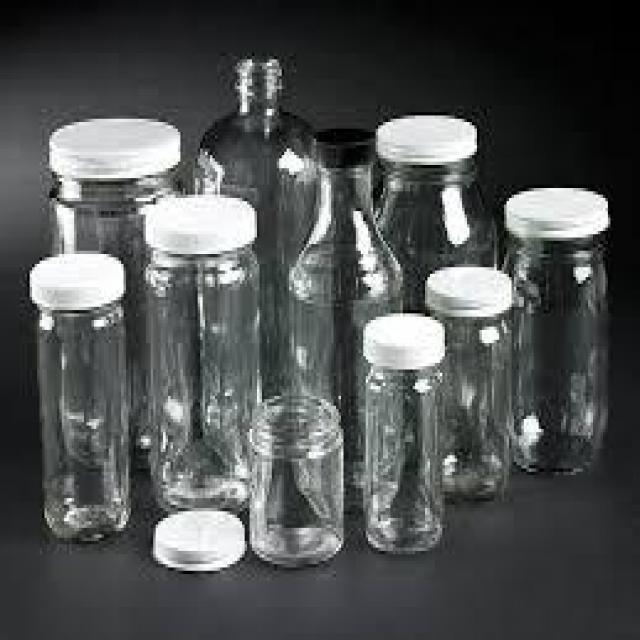non-organic waste: (25, 245, 136, 552), (504, 186, 615, 470), (361, 305, 450, 566), (244, 386, 348, 571)
